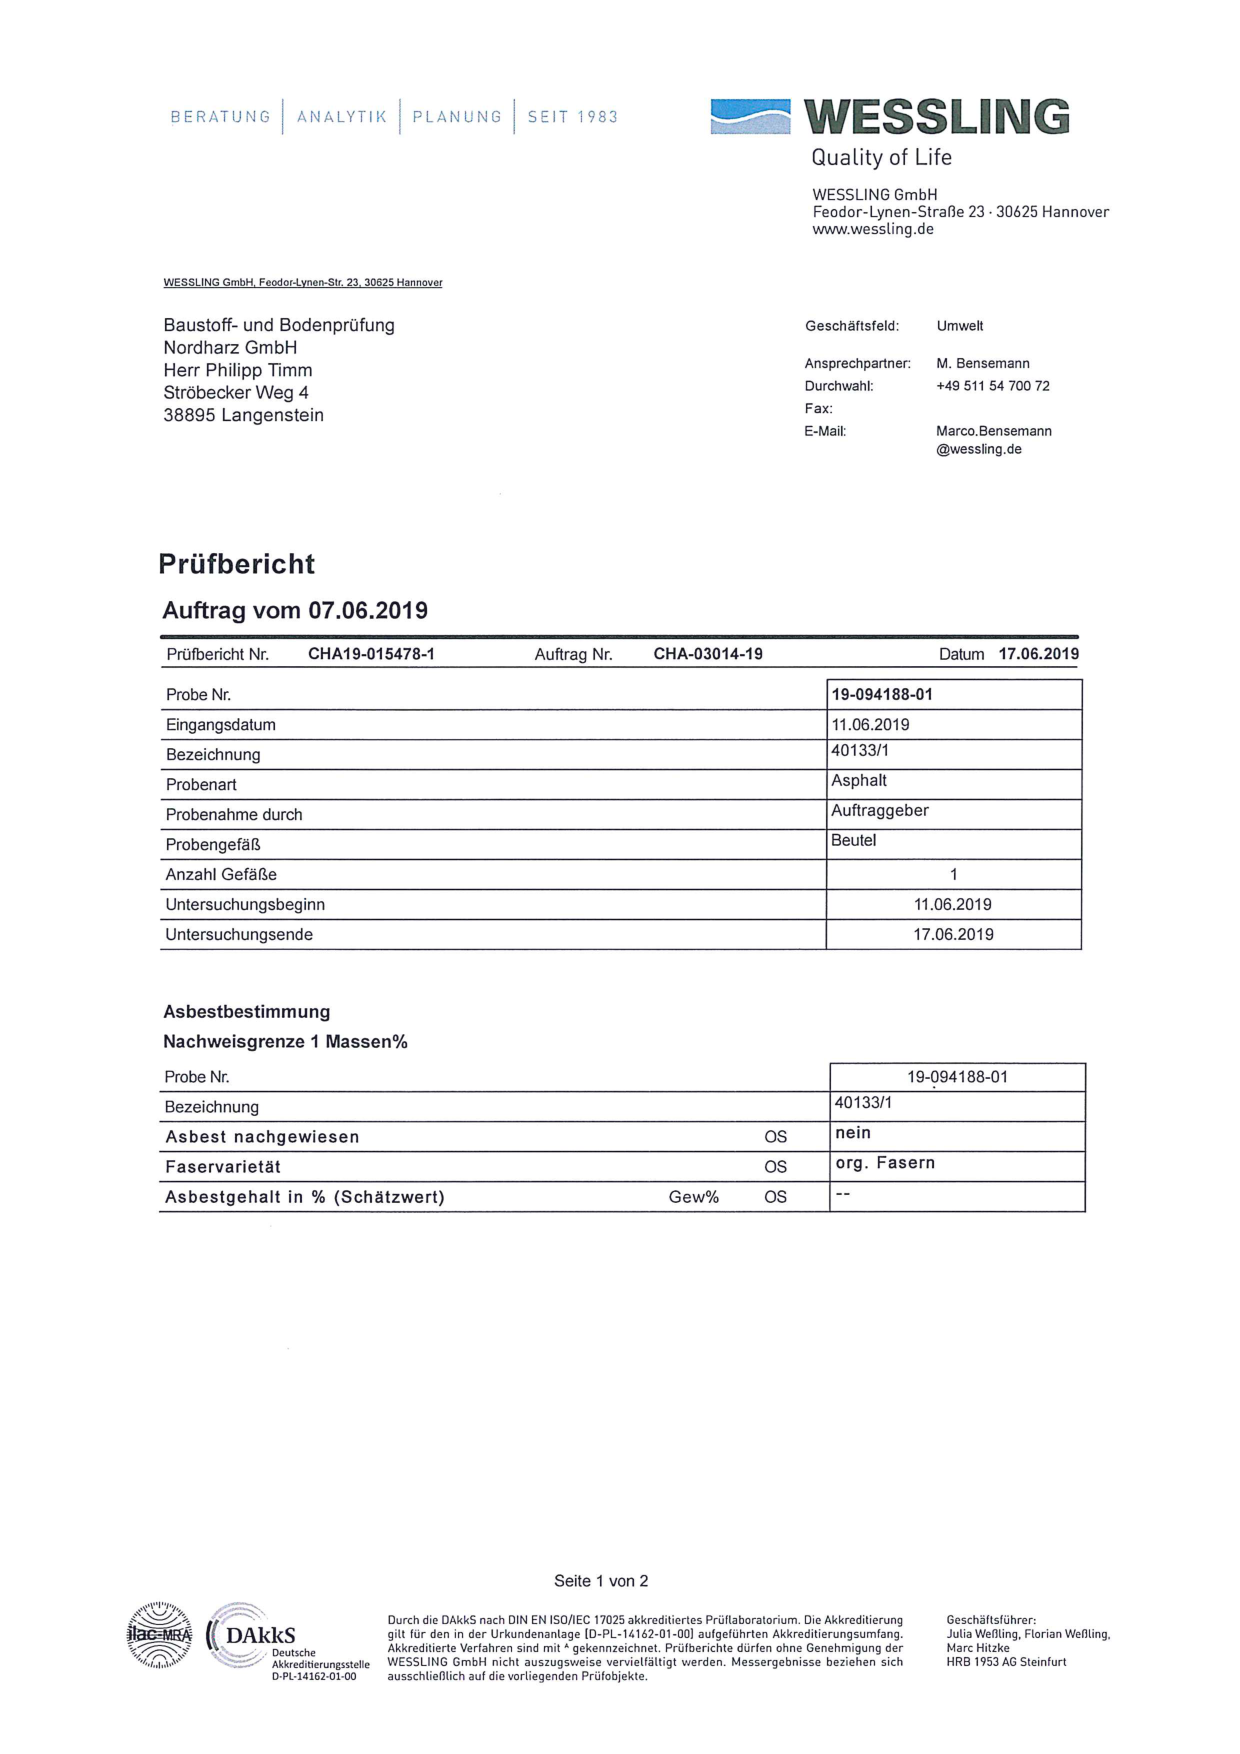table: (153, 624, 1099, 960), (149, 1059, 1106, 1229)
